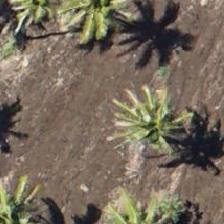coconut_tree: (112, 84, 202, 174), (59, 0, 149, 49), (0, 0, 78, 49)
